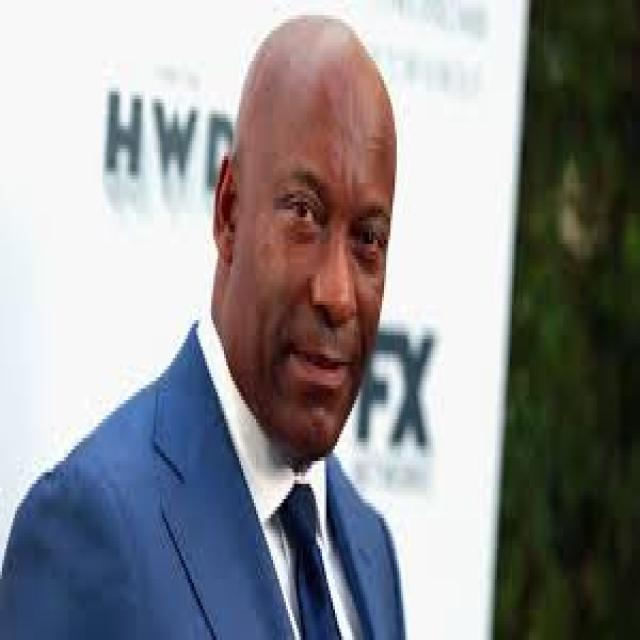normal_face: (249, 12, 401, 453)
